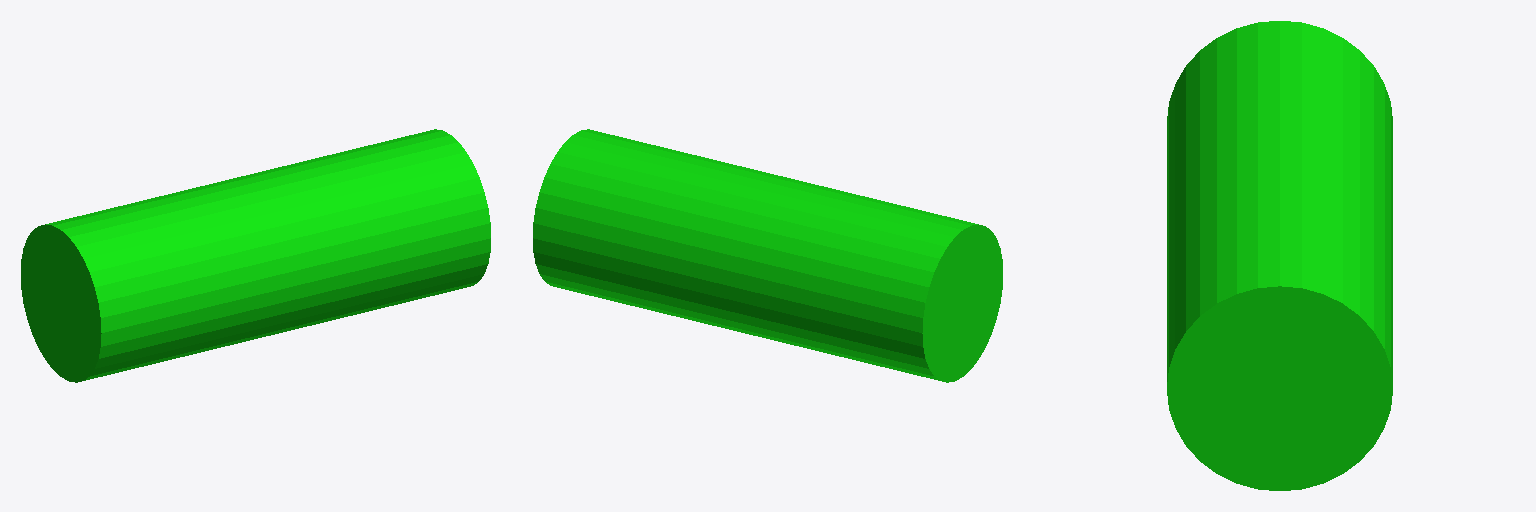
robot.urdf — panda:
<?xml version="1.0" ?>
<!-- =================================================================================== -->
<!-- |    This document was autogenerated by xacro from panda_drl.urdf.xacro           | -->
<!-- |    EDITING THIS FILE BY HAND IS NOT RECOMMENDED                                 | -->
<!-- =================================================================================== -->
<robot name="panda">
  <link name="panda_link0">
    <inertial>
      <origin rpy="0 0 0" xyz="0 0 0.05"/>
      <mass value="2.9"/>
      <inertia ixx="0.1" ixy="0" ixz="0" iyy="0.1" iyz="0" izz="0.1"/>
    </inertial>
    <visual>
      <geometry>
        <mesh filename="package://meshes/collision/link0.obj"/>
      </geometry>
      <material name="panda_white">
        <color rgba="1. 1. 1. 1."/>
      </material>
    </visual>
    <collision>
      <geometry>
        <mesh filename="package://meshes/collision/link0.obj"/>
      </geometry>
      <material name="panda_white"/>
    </collision>
  </link>
  <link name="panda_link1">
    <inertial>
      <origin rpy="0 0 0" xyz="0 -0.04 -0.05"/>
      <mass value="2.7"/>
      <inertia ixx="0.1" ixy="0" ixz="0" iyy="0.1" iyz="0" izz="0.1"/>
    </inertial>
    <visual>
      <geometry>
        <mesh filename="package://meshes/visual/link1.obj"/>
      </geometry>
      <material name="panda_white"/>
    </visual>
    <collision>
      <geometry>
        <mesh filename="package://meshes/collision/link1.obj"/>
      </geometry>
      <material name="panda_white"/>
    </collision>
  </link>
  <joint name="panda_joint1" type="revolute">
    <safety_controller k_position="100.0" k_velocity="40.0" soft_lower_limit="-2.8973" soft_upper_limit="2.8973"/>
    <origin rpy="0 0 0" xyz="0 0 0.333"/>
    <parent link="panda_link0"/>
    <child link="panda_link1"/>
    <axis xyz="0 0 1"/>
    <limit effort="87" lower="-2.8973" upper="2.8973" velocity="2.1750"/>
  </joint>
  <link name="panda_link2">
    <inertial>
      <origin rpy="0 0 0" xyz="0 -0.04 0.06"/>
      <mass value="2.73"/>
      <inertia ixx="0.1" ixy="0" ixz="0" iyy="0.1" iyz="0" izz="0.1"/>
    </inertial>
    <visual>
      <geometry>
        <mesh filename="package://meshes/visual/link2.obj"/>
      </geometry>
      <material name="panda_white"/>
    </visual>
    <collision>
      <geometry>
        <mesh filename="package://meshes/collision/link2.obj"/>
      </geometry>
      <material name="panda_white"/>
    </collision>
  </link>
  <joint name="panda_joint2" type="revolute">
    <safety_controller k_position="100.0" k_velocity="40.0" soft_lower_limit="-1.7628" soft_upper_limit="1.7628"/>
    <origin rpy="-1.57079632679 0 0" xyz="0 0 0"/>
    <parent link="panda_link1"/>
    <child link="panda_link2"/>
    <axis xyz="0 0 1"/>
    <limit effort="87" lower="-1.7628" upper="1.7628" velocity="2.1750"/>
  </joint>
  <link name="panda_link3">
    <inertial>
      <origin rpy="0 0 0" xyz="0.01 0.01 -0.05"/>
      <mass value="2.04"/>
      <inertia ixx="0.1" ixy="0" ixz="0" iyy="0.1" iyz="0" izz="0.1"/>
    </inertial>
    <visual>
      <geometry>
        <mesh filename="package://meshes/visual/link3.obj"/>
      </geometry>
      <material name="panda_red">
        <color rgba="1. 1. 1. 1."/>
      </material>
    </visual>
    <collision>
      <geometry>
        <mesh filename="package://meshes/collision/link3.obj"/>
      </geometry>
    </collision>
  </link>
  <joint name="panda_joint3" type="revolute">
    <safety_controller k_position="100.0" k_velocity="40.0" soft_lower_limit="-2.8973" soft_upper_limit="2.8973"/>
    <origin rpy="1.57079632679 0 0" xyz="0 -0.316 0"/>
    <parent link="panda_link2"/>
    <child link="panda_link3"/>
    <axis xyz="0 0 1"/>
    <limit effort="87" lower="-2.8973" upper="2.8973" velocity="2.1750"/>
  </joint>
  <link name="panda_link4">
    <inertial>
      <origin rpy="0 0 0" xyz="-0.03 0.03 0.02"/>
      <mass value="2.08"/>
      <inertia ixx="0.1" ixy="0" ixz="0" iyy="0.1" iyz="0" izz="0.1"/>
    </inertial>
    <visual>
      <geometry>
        <mesh filename="package://meshes/visual/link4.obj"/>
      </geometry>
      <material name="panda_white"/>
    </visual>
    <collision>
      <geometry>
        <mesh filename="package://meshes/collision/link4.obj"/>
      </geometry>
      <material name="panda_white"/>
    </collision>
  </link>
  <joint name="panda_joint4" type="revolute">
    <safety_controller k_position="100.0" k_velocity="40.0" soft_lower_limit="-3.0718" soft_upper_limit="-0.0698"/>
    <origin rpy="1.57079632679 0 0" xyz="0.0825 0 0"/>
    <parent link="panda_link3"/>
    <child link="panda_link4"/>
    <axis xyz="0 0 1"/>
    <limit effort="87" lower="-3.0718" upper="-0.0698" velocity="2.1750"/>
  </joint>
  <link name="panda_link5">
    <inertial>
      <origin rpy="0 0 0" xyz="0 0.04 -0.12"/>
      <mass value="3"/>
      <inertia ixx="0.1" ixy="0" ixz="0" iyy="0.1" iyz="0" izz="0.1"/>
    </inertial>
    <visual>
      <geometry>
        <mesh filename="package://meshes/visual/link5.obj"/>
      </geometry>
      <material name="panda_white"/>
    </visual>
    <collision>
      <geometry>
        <mesh filename="package://meshes/collision/link5.obj"/>
      </geometry>
      <material name="panda_white"/>
    </collision>
  </link>
  <joint name="panda_joint5" type="revolute">
    <safety_controller k_position="100.0" k_velocity="40.0" soft_lower_limit="-2.8973" soft_upper_limit="2.8973"/>
    <origin rpy="-1.57079632679 0 0" xyz="-0.0825 0.384 0"/>
    <parent link="panda_link4"/>
    <child link="panda_link5"/>
    <axis xyz="0 0 1"/>
    <limit effort="12" lower="-2.8973" upper="2.8973" velocity="2.6100"/>
  </joint>
  <link name="panda_link6">
    <inertial>
      <origin rpy="0 0 0" xyz="0.04 0 0"/>
      <mass value="1.3"/>
      <inertia ixx="0.1" ixy="0" ixz="0" iyy="0.1" iyz="0" izz="0.1"/>
    </inertial>
    <visual>
      <geometry>
        <mesh filename="package://meshes/visual/link6.obj"/>
      </geometry>
      <material name="panda_white"/>
    </visual>
    <collision>
      <geometry>
        <mesh filename="package://meshes/collision/link6.obj"/>
      </geometry>
      <material name="panda_white"/>
    </collision>
  </link>
  <joint name="panda_joint6" type="revolute">
    <safety_controller k_position="100.0" k_velocity="40.0" soft_lower_limit="-0.0175" soft_upper_limit="3.7525"/>
    <origin rpy="1.57079632679 0 0" xyz="0 0 0"/>
    <parent link="panda_link5"/>
    <child link="panda_link6"/>
    <axis xyz="0 0 1"/>
    <limit effort="12" lower="-0.0175" upper="3.7525" velocity="2.6100"/>
  </joint>
  <link name="panda_link7">
    <inertial>
      <origin rpy="0 0 0" xyz="0 0 0.08"/>
      <mass value=".2"/>
      <inertia ixx="0.1" ixy="0" ixz="0" iyy="0.1" iyz="0" izz="0.1"/>
    </inertial>
    <visual>
      <geometry>
        <mesh filename="package://meshes/collision/link7.obj"/>
      </geometry>
      <material name="panda_white"/>
    </visual>
    <collision>
      <geometry>
        <mesh filename="package://meshes/collision/link7.obj"/>
      </geometry>
      <material name="panda_white"/>
    </collision>
  </link>
  <joint name="panda_joint7" type="revolute">
    <safety_controller k_position="100.0" k_velocity="40.0" soft_lower_limit="-2.8973" soft_upper_limit="2.8973"/>
    <origin rpy="1.57079632679 0 0" xyz="0.088 0 0"/>
    <parent link="panda_link6"/>
    <child link="panda_link7"/>
    <axis xyz="0 0 1"/>
    <limit effort="12" lower="-2.8973" upper="2.8973" velocity="2.6100"/>
  </joint>
  <link name="panda_link8">
    <inertial>
      <origin rpy="0 0 0" xyz="0 0 0"/>
      <mass value="0.0"/>
      <inertia ixx="0.1" ixy="0" ixz="0" iyy="0.1" iyz="0" izz="0.1"/>
    </inertial>
  </link>
  <joint name="panda_joint8" type="fixed">
    <origin rpy="0 0 0" xyz="0 0 0.107"/>
    <parent link="panda_link7"/>
    <child link="panda_link8"/>
    <axis xyz="0 0 0"/>
  </joint>
  <material name="black">
    <color rgba="0.2 0.2 0.2 1"/>
  </material>
  <material name="green">
    <color rgba="0.1 0.9 0.1 1"/>
  </material>
  <joint name="panda_suction_gripper_joint" type="fixed">
    <parent link="panda_link8"/>
    <child link="panda_suction_gripper"/>
    <origin rpy="3.141592653589793 0 -0.7853981633974483" xyz="0 0 0.0065"/>
  </joint>
  <link name="panda_suction_gripper">
    <visual>
      <geometry>
        <mesh filename="package://mercury_panda/robots/drl/meshes/visual/suction_mount.obj"/>
      </geometry>
      <material name="black"/>
    </visual>
    <collision>
      <geometry>
        <mesh filename="package://mercury_panda/robots/drl/meshes/collision/suction_mount.obj"/>
      </geometry>
    </collision>
  </link>
  <link name="tipLink">
    <visual>
      <geometry>
        <cylinder length="0.10" radius="0.018"/>
      </geometry>
      <origin xyz="0 0 -0.05"/>
      <material name="green"/>
    </visual>
    <collision>
      <geometry>
        <cylinder length="0.16" radius="0.018"/>
      </geometry>
      <origin xyz="0 0 -0.08"/>
    </collision>
  </link>
  <joint name="panda_suction_mount_to_cup_joint" type="fixed">
    <parent link="panda_suction_gripper"/>
    <child link="tipLink"/>
    <origin rpy="3.141592653589793 0 0" xyz="0.072 0 -0.08"/>
  </joint>
</robot>

--- Render facts (derived) ---
3 views of the same robot in one strip: view 1: azimuth 30°, elevation 25°; view 2: azimuth 150°, elevation 25°; view 3: azimuth 270°, elevation 25° (orthographic).
Robot: panda — 11 links, 10 joints (7 revolute, 3 fixed); root link panda_link0; default pose: joints at zero except 1 at the middle of their limits (panda_joint4 = -1.57).
Links seen in each view (by area): view 1: tipLink; view 2: tipLink; view 3: tipLink.
Link boxes in pixels (left/top/right/bottom): tipLink: left=21, top=129, right=490, bottom=382; tipLink: left=533, top=129, right=1002, bottom=382; tipLink: left=1167, top=21, right=1392, bottom=490.
Bounding box of the posed robot: 0.1 × 0.036 × 0.036 m (x, y, z).
0 mesh visuals loaded from 9 distinct referenced files (none loaded); not drawn: 9 (reference not matched to a file when rendering).